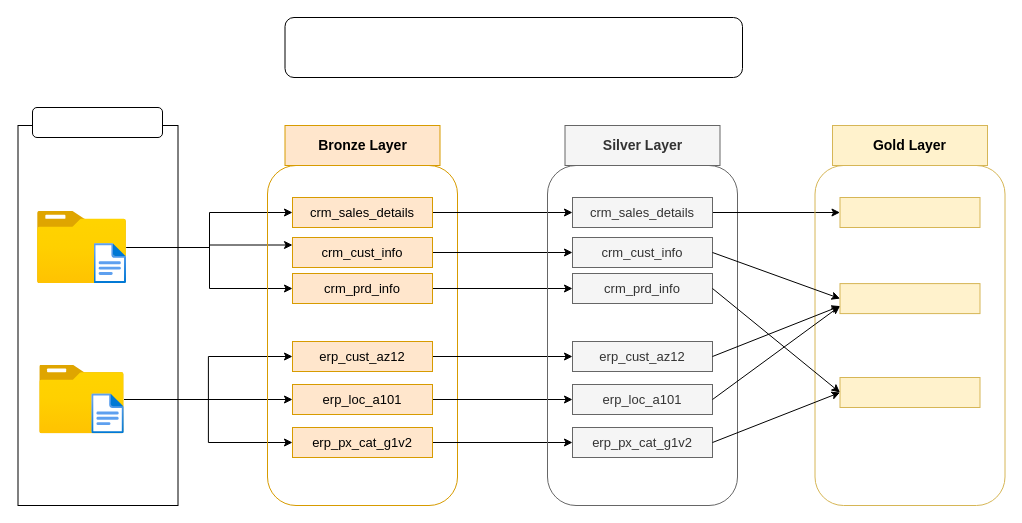
This 1022x523 diagram has some shape labels left out. The box of each missing label's shape, as (x1, y1, x2, y2) in pixels:
CRM: (37, 211, 126, 283)
Data Flow: (284, 16, 742, 78)
dim_customers: (839, 283, 980, 314)
dim_products: (839, 376, 980, 408)
ERP: (39, 365, 124, 433)
fact_sale: (839, 196, 980, 228)
Sources: (32, 106, 162, 138)
